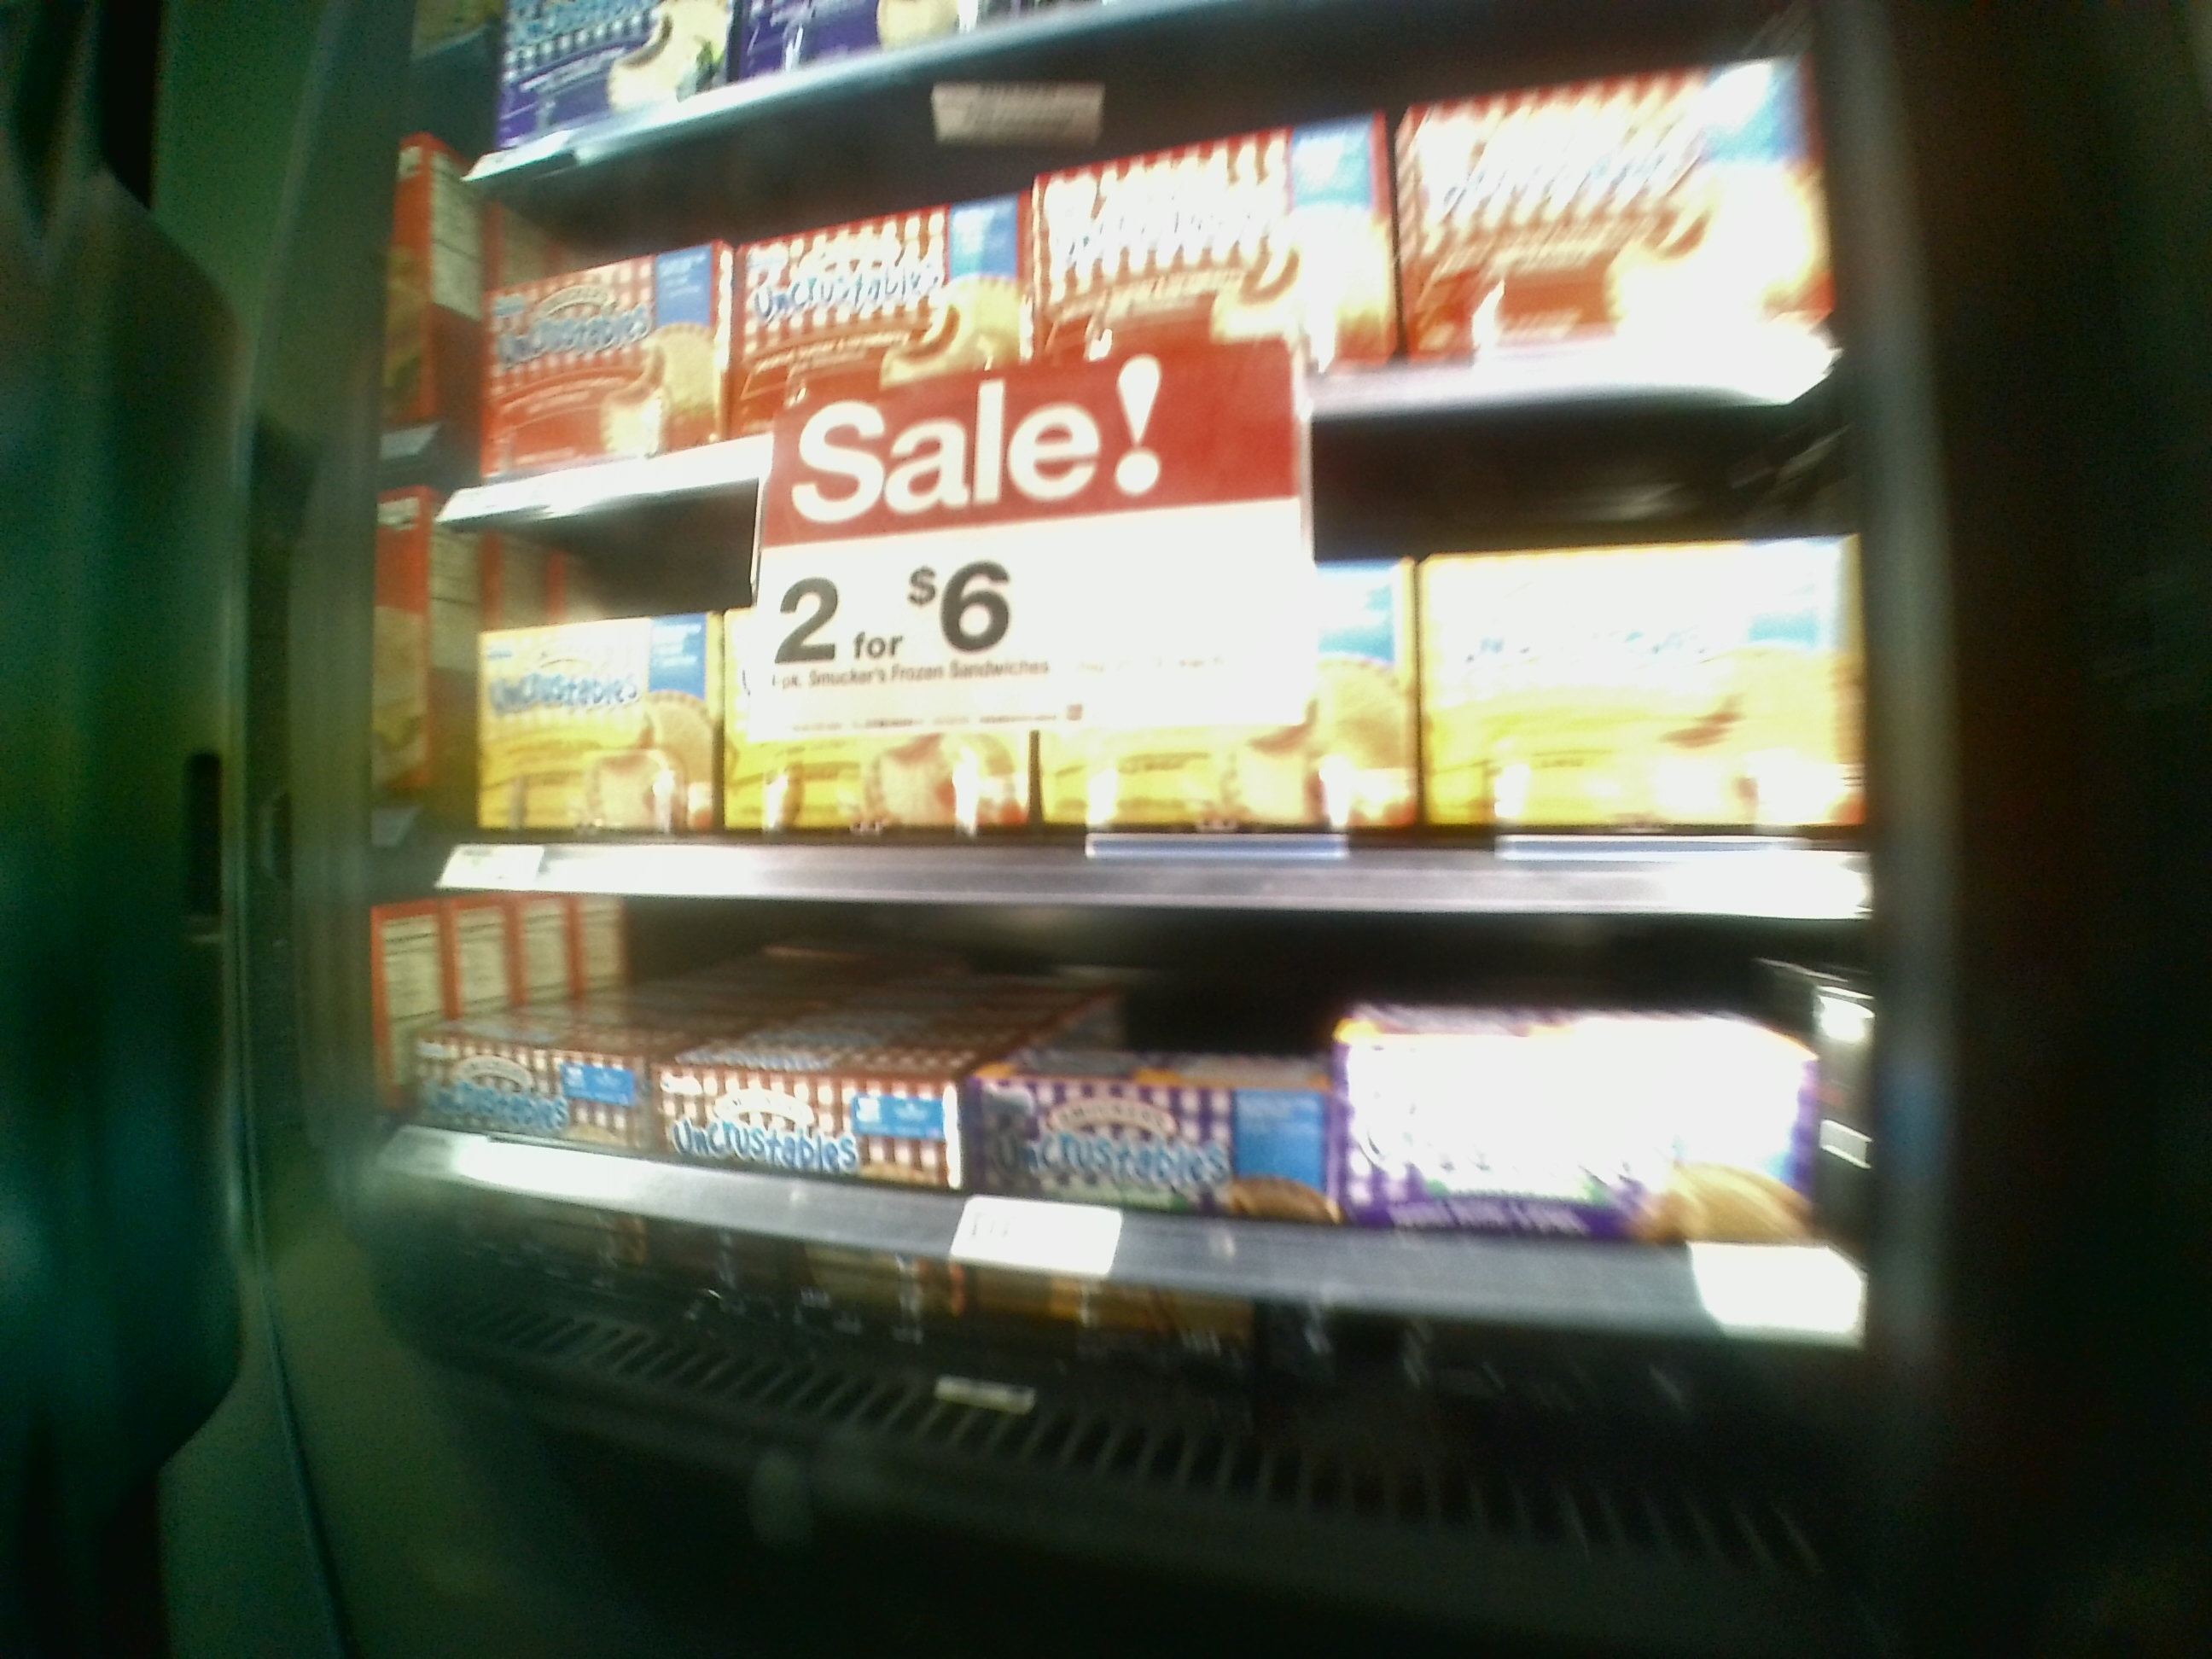shelf: (409, 873, 1878, 1352), (430, 486, 1881, 913), (444, 171, 1843, 497)
